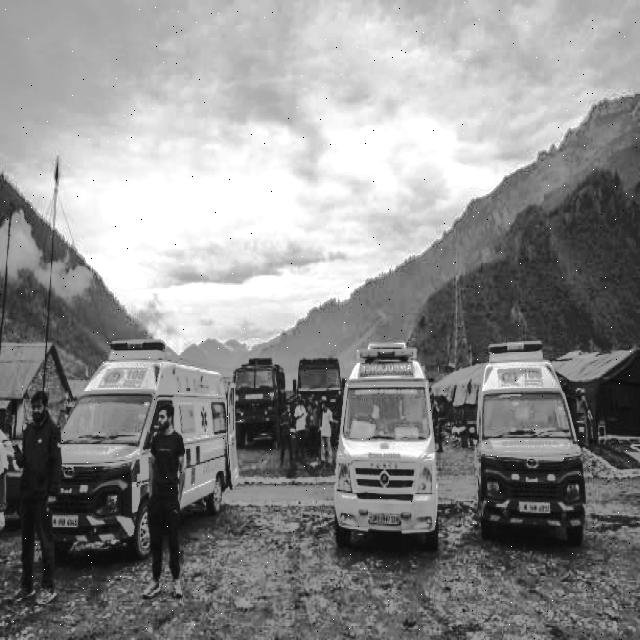Ambulance: (349, 340, 430, 544), (484, 435, 578, 458), (483, 366, 558, 393), (173, 369, 228, 402), (101, 363, 155, 393), (186, 443, 227, 482), (486, 339, 548, 362), (109, 336, 171, 356), (358, 360, 416, 380), (65, 437, 118, 458), (368, 449, 403, 470), (198, 402, 213, 438)
